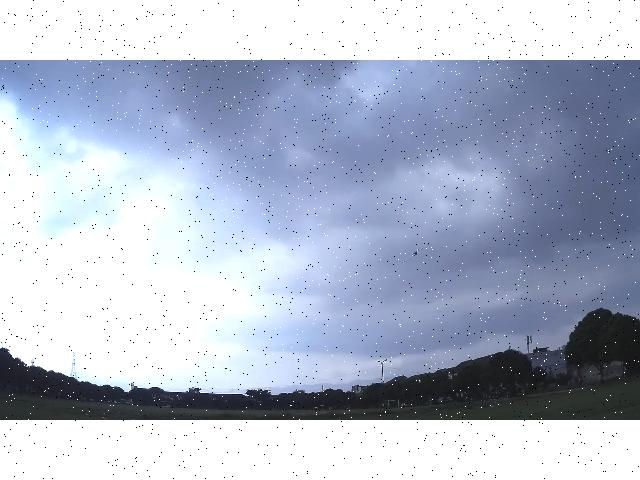Anti-Drone: (402, 244, 430, 262)
